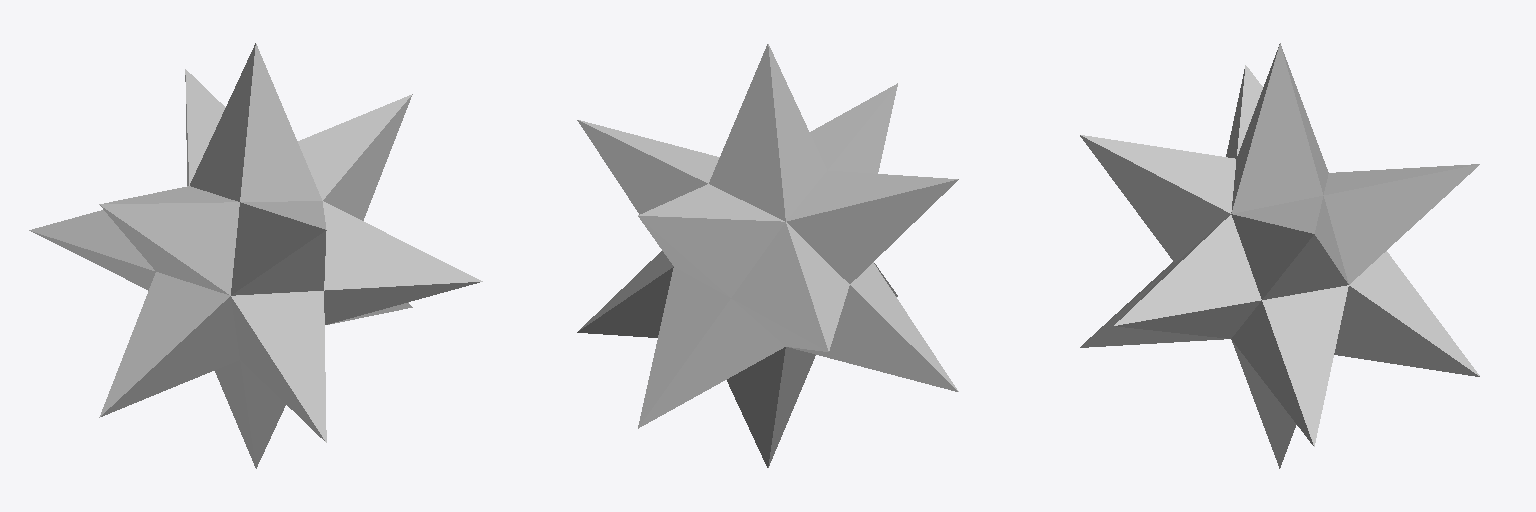
File: great-rhombihexacron.obj
3 renders of one model, left to right at view 1: azimuth 30°, elevation 25°; view 2: azimuth 150°, elevation 25°; view 3: azimuth 270°, elevation 25°, orthographic.
Parts seen in each view (by area): view 1: Mesh; view 2: Mesh; view 3: Mesh.
Part boxes in pixels (bbox=[...]): Mesh: bbox=[29, 43, 482, 468]; Mesh: bbox=[577, 44, 958, 467]; Mesh: bbox=[1080, 43, 1479, 468].
Size of the model in its own units: 4.46 by 5.23 by 4.46.